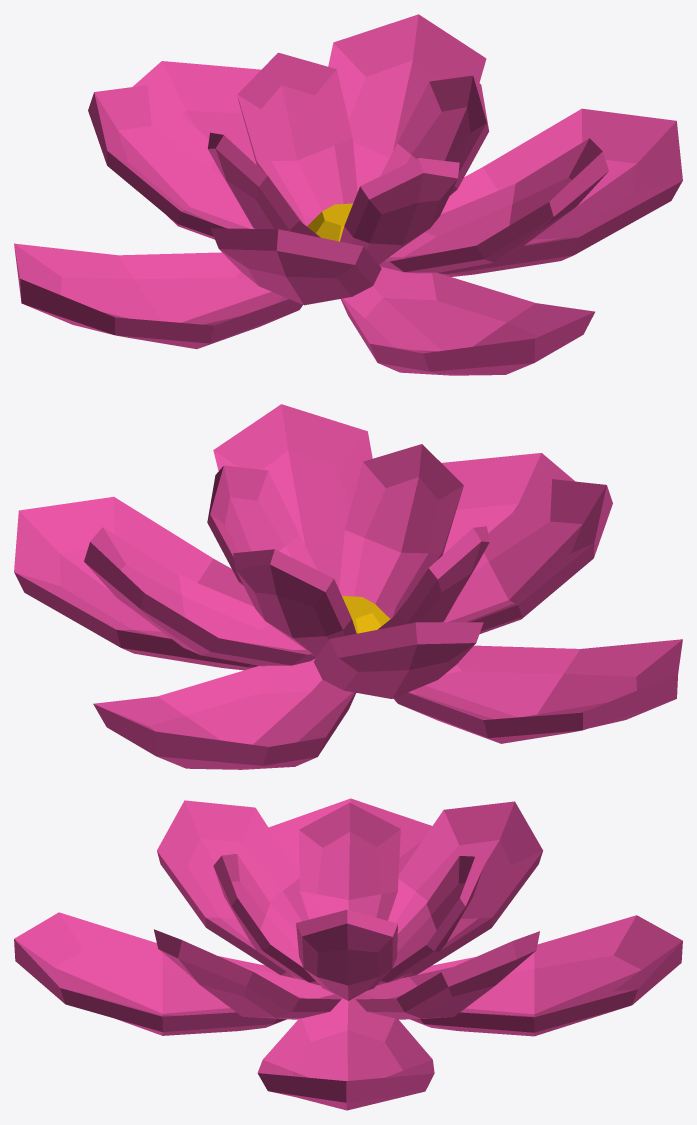
The model's file is FPINK.fbx.
3 views of the same model, one above another, from view 1: azimuth 30°, elevation 25°; view 2: azimuth 150°, elevation 25°; view 3: azimuth 270°, elevation 25° (orthographic). The views are drawn at different scales.
Visible parts, largest first — view 1: pCube21 (×6), pCube22 (×6), yellow_gem2; view 2: pCube22 (×6), pCube21 (×6), yellow_gem2; view 3: pCube22 (×6), pCube21 (×6).
Part boxes in pixels (x1,y1,x2,y2): pCube21 (×6): (14,75,682,349); pCube22 (×6): (133,14,594,375); yellow_gem2: (307,203,352,241); pCube22 (×6): (84,444,612,769); pCube21 (×6): (14,404,682,743); yellow_gem2: (342,596,390,633); pCube22 (×6): (14,800,682,1036); pCube21 (×6): (154,798,543,1110).
Bounding box in the file's own units: 41.24 × 11.69 × 41.24.
